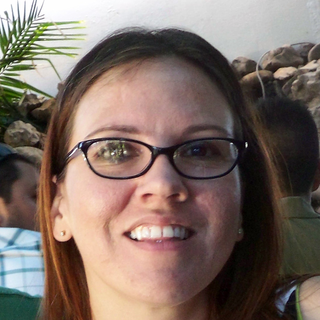eye: (90, 142, 142, 163), (179, 141, 220, 161)
